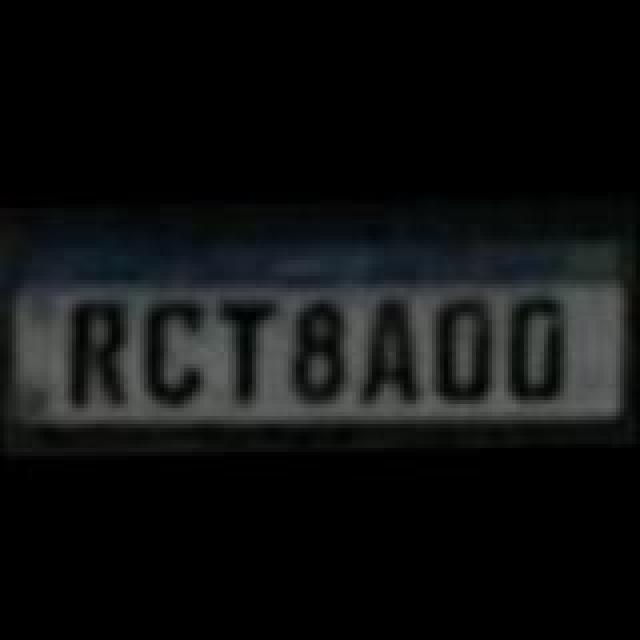8: (288, 294, 348, 402)
A: (352, 292, 420, 408)
C: (136, 294, 204, 402)
D: (428, 282, 496, 406), (502, 280, 566, 404)
R: (68, 292, 128, 416)
T: (206, 284, 270, 396)
